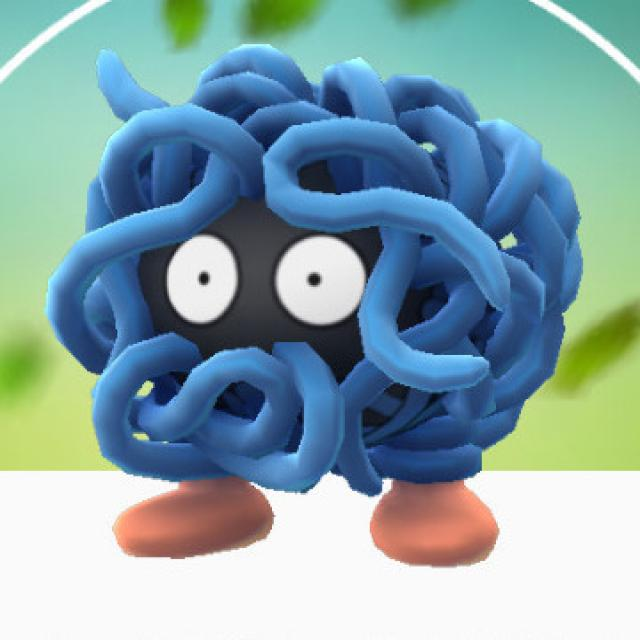Tangela: (20, 41, 595, 594)
